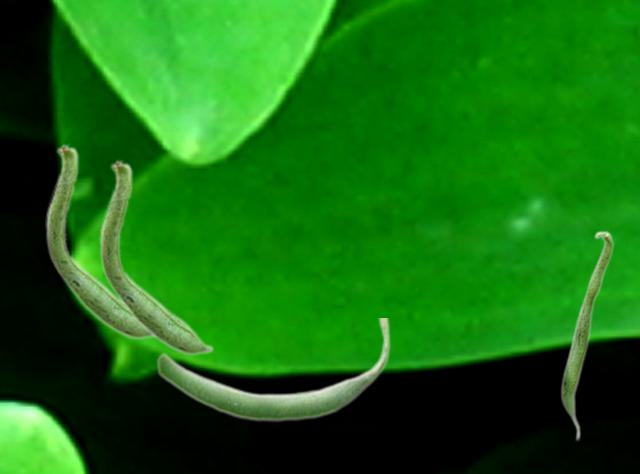french_bean: (156, 318, 390, 422), (99, 158, 213, 355), (45, 142, 152, 339), (560, 230, 613, 441)
